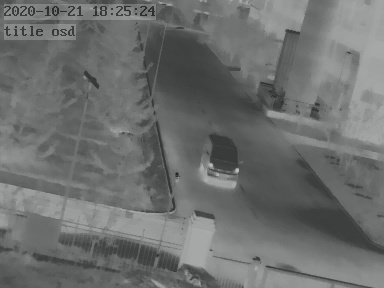vehicle: (201, 132, 241, 186)
